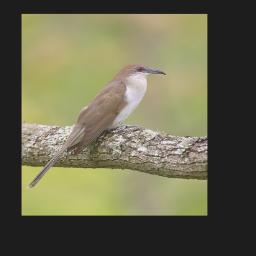Cuckoo: (27, 63, 168, 190)
